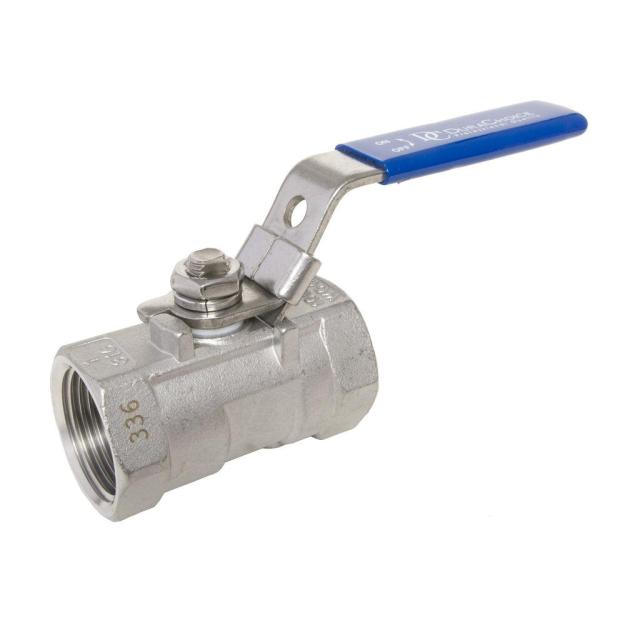opened_valve: (49, 96, 592, 527)
